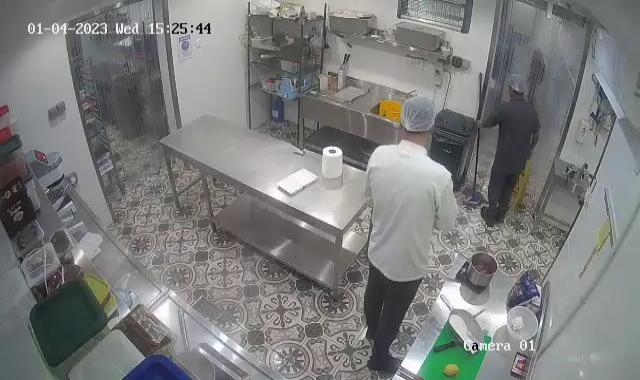hairnet: (402, 92, 436, 138), (505, 75, 527, 98)
